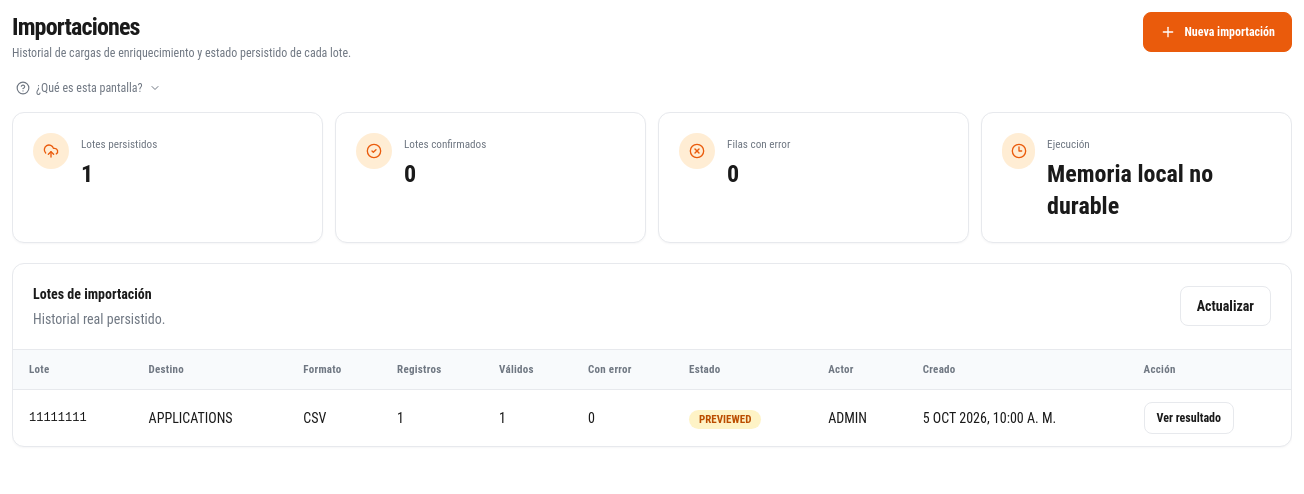
Scenario: ImportsWorkspace › opens a persisted result from the history and keeps it addressable by URL
Click the button "Ver resultado" at point(1189, 418), box [1144, 402, 1234, 434]
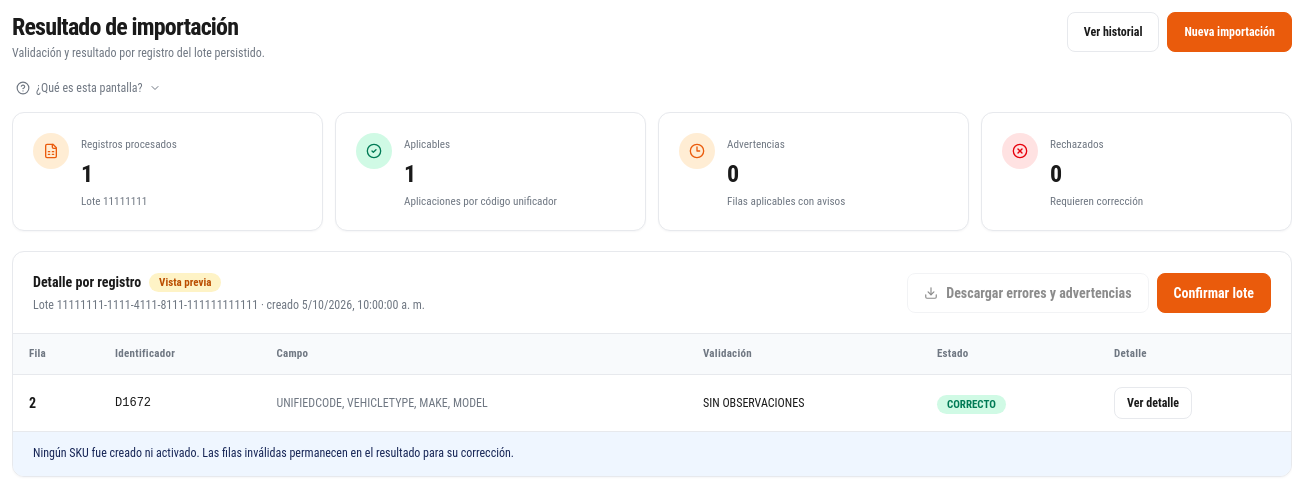
Expected: the heading "Resultado de importación" is shown, [12, 12, 238, 42]
Expected: the text "D1672" is shown, [99, 374, 260, 431]
